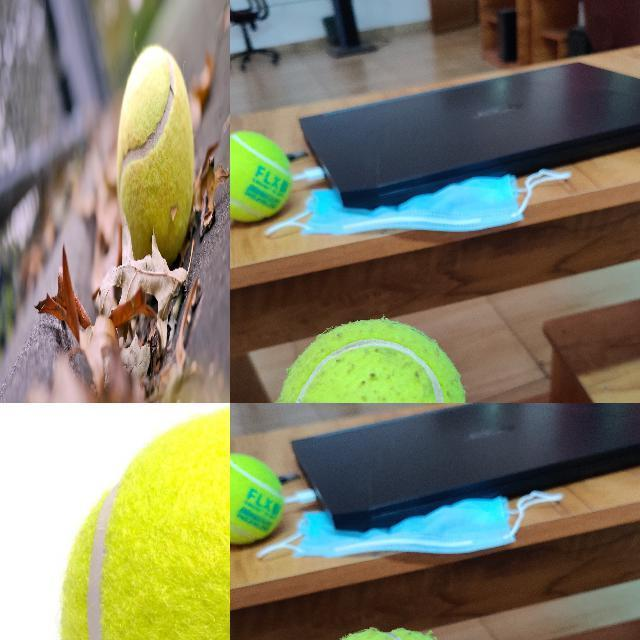tennis-ball: (59, 403, 229, 639), (116, 43, 194, 269), (275, 318, 467, 402), (230, 130, 292, 222), (230, 453, 284, 543)
